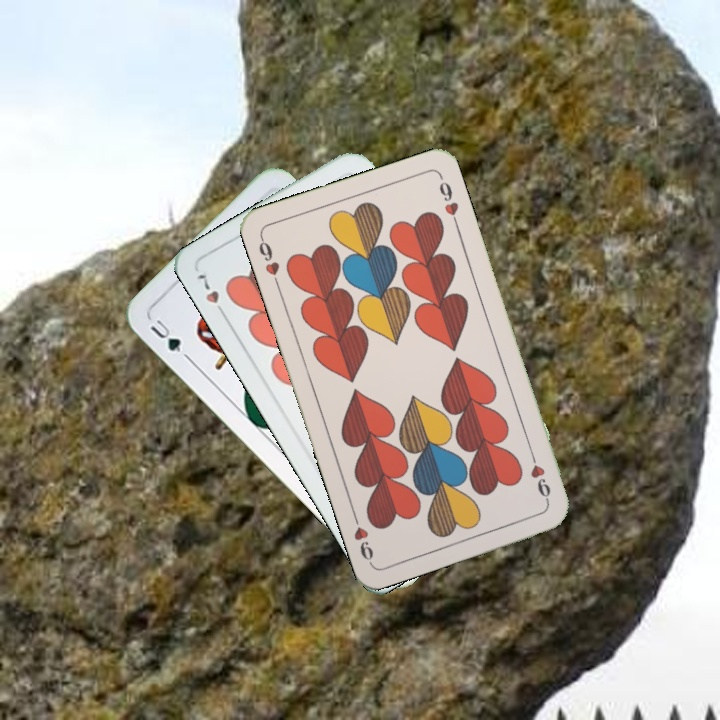GU: (146, 315, 185, 355)
H7: (192, 267, 230, 321)
H9: (526, 448, 554, 505), (255, 232, 282, 290)
